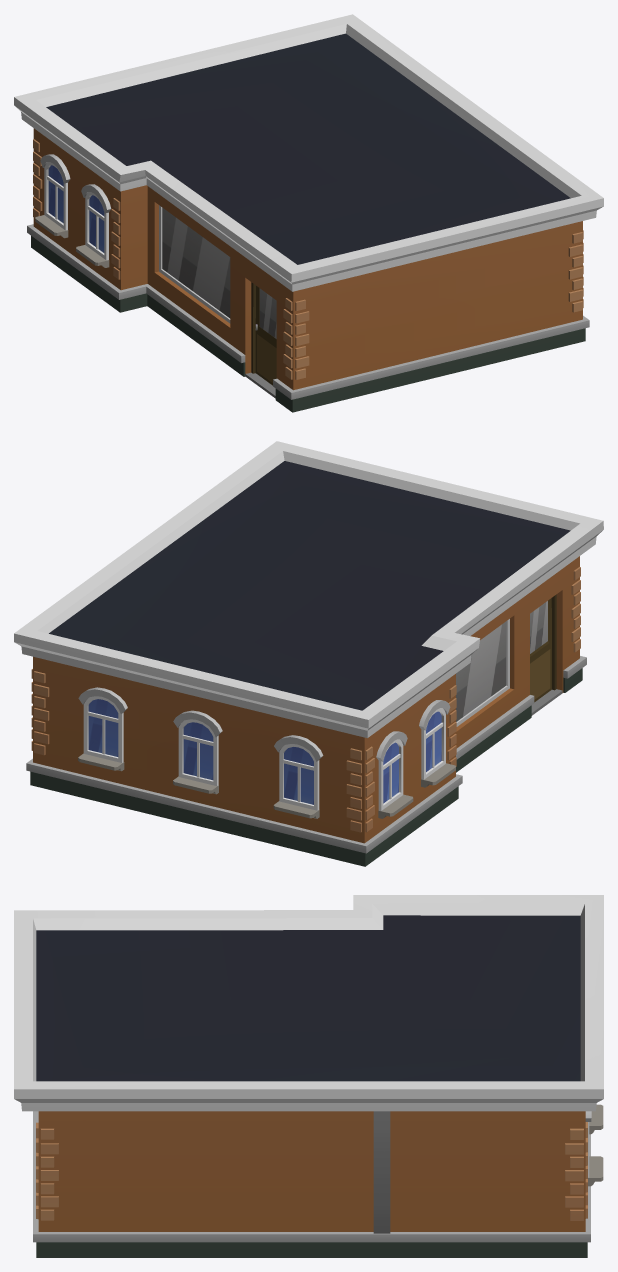
Rendered from Building_1_1_L.fbx.
3 renders of one model, top to bottom at view 1: azimuth 30°, elevation 25°; view 2: azimuth 150°, elevation 25°; view 3: azimuth 270°, elevation 25°, orthographic. The views are drawn at different scales.
Parts seen in each view (by area): view 1: Building_1_1_L; view 2: Building_1_1_L; view 3: Building_1_1_L.
Part boxes in pixels (box(x1,y1,x2,y2)): Building_1_1_L: box(14, 14, 603, 412); Building_1_1_L: box(14, 441, 603, 866); Building_1_1_L: box(14, 895, 603, 1257).
Bounding box in the file's own units: 822 × 341 × 1051.
